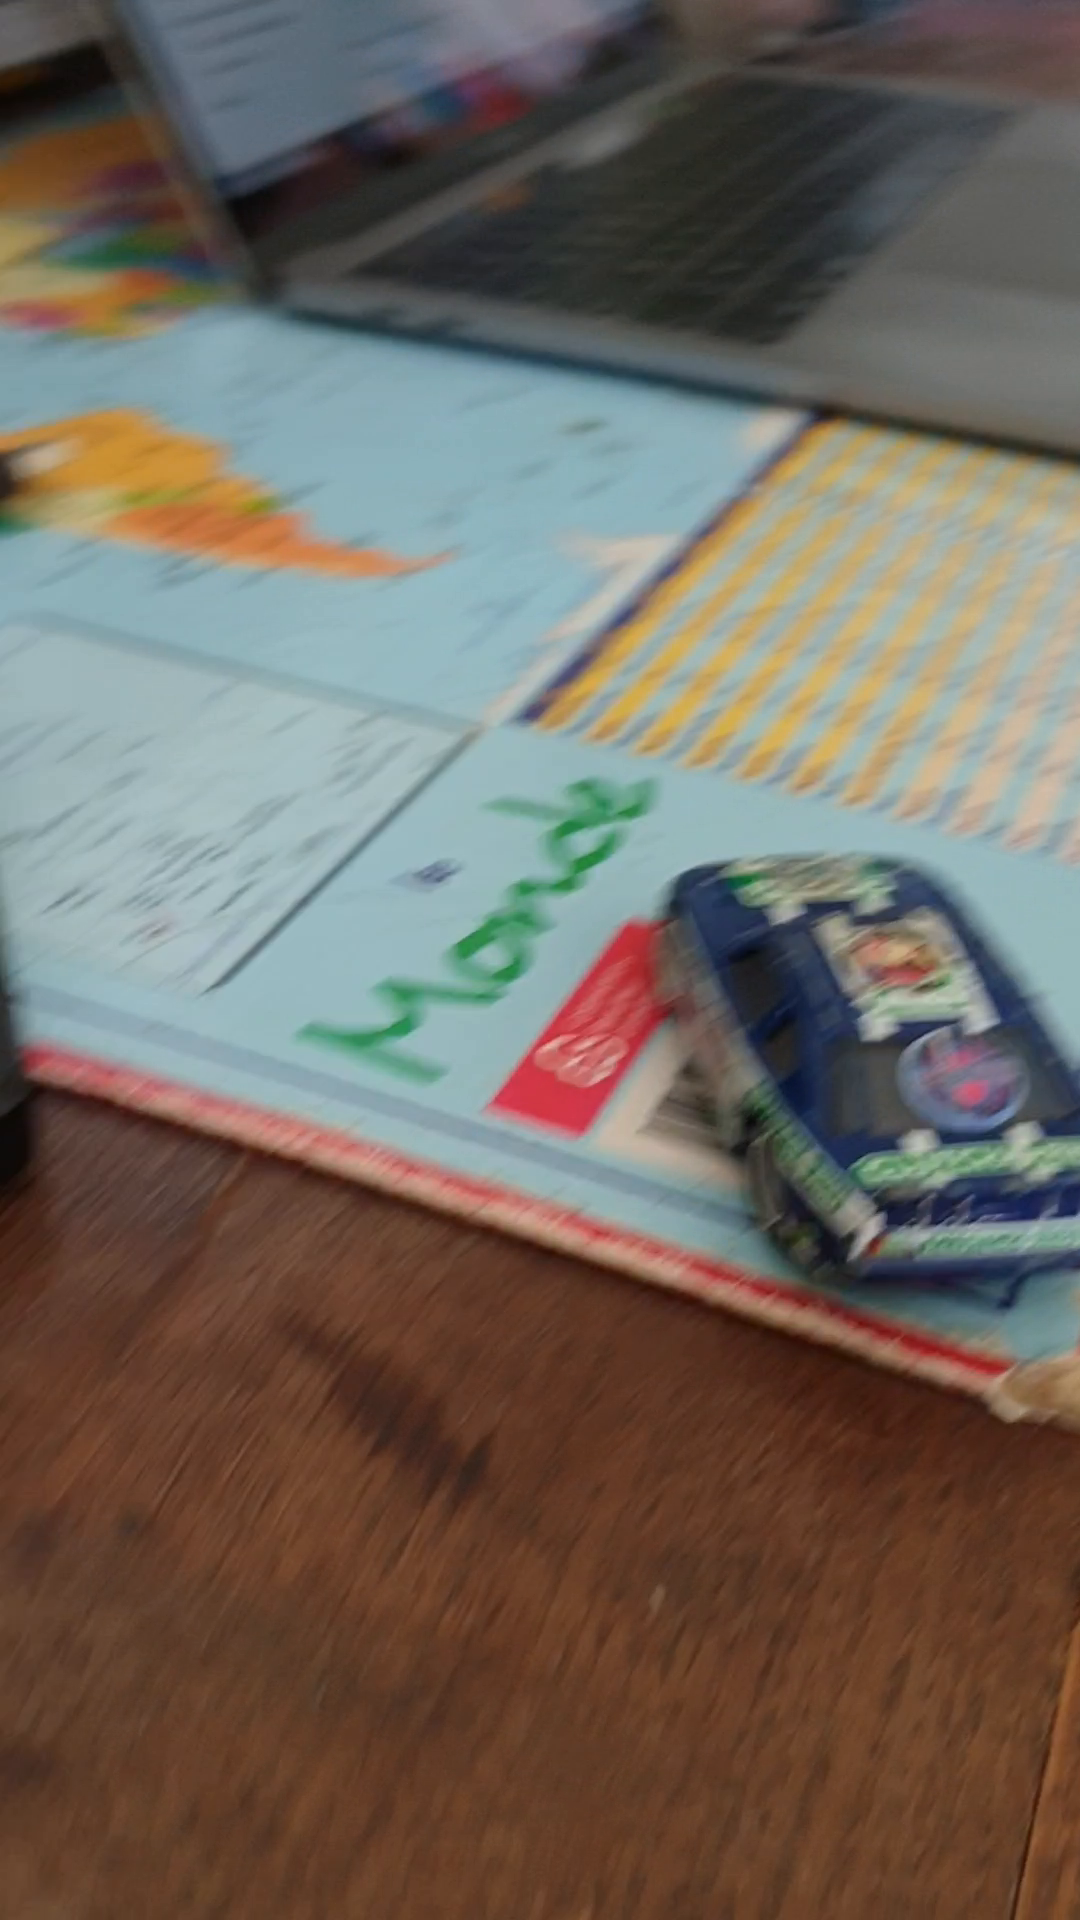cars: (659, 851, 1080, 1286)
